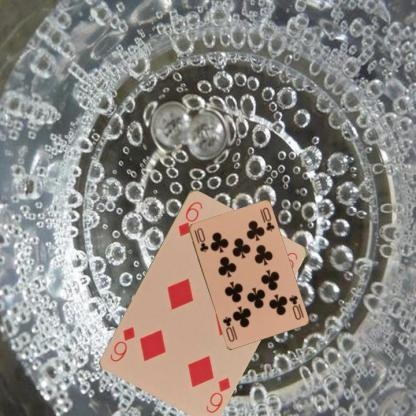10c: (191, 225, 210, 254), (286, 292, 302, 321)
6d: (175, 198, 204, 238), (203, 374, 232, 414)
